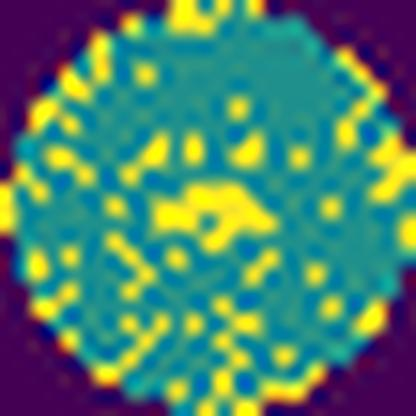Center: (150, 175, 286, 258)
